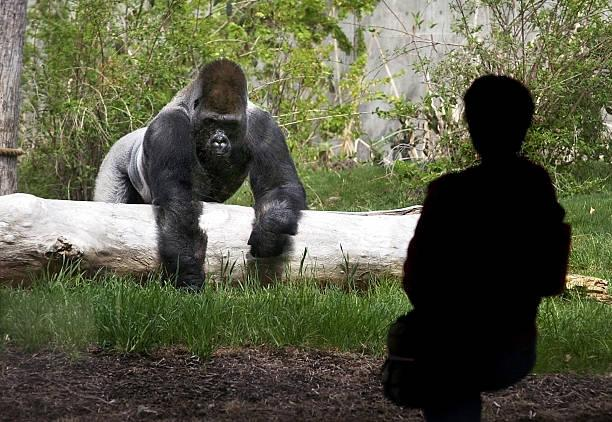gorille_Autres: (82, 46, 336, 269)
